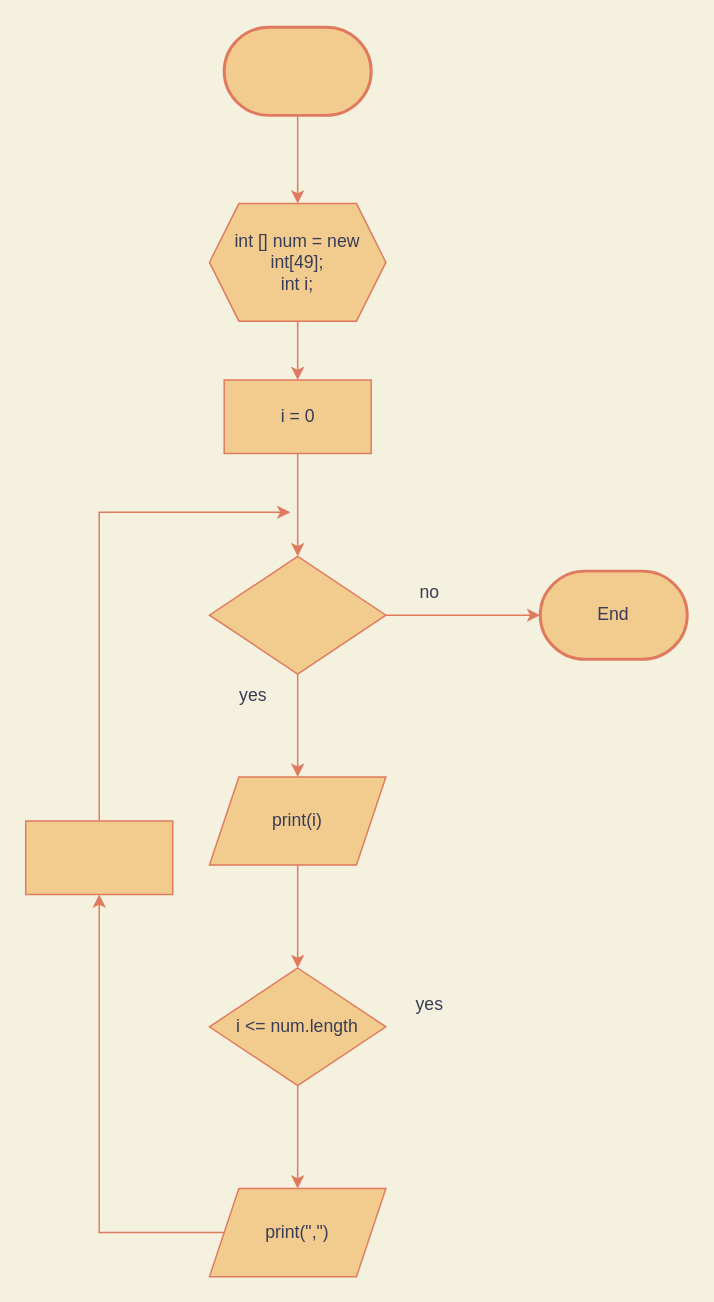
Image size: 714x1302. Some labels were removed from this diagram. Here are the shapes that lost their labels. From the top down, the centre of each, then its label:
the point at 297,70: Start
the point at 297,614: i <=num.length
the point at 98,857: i++
